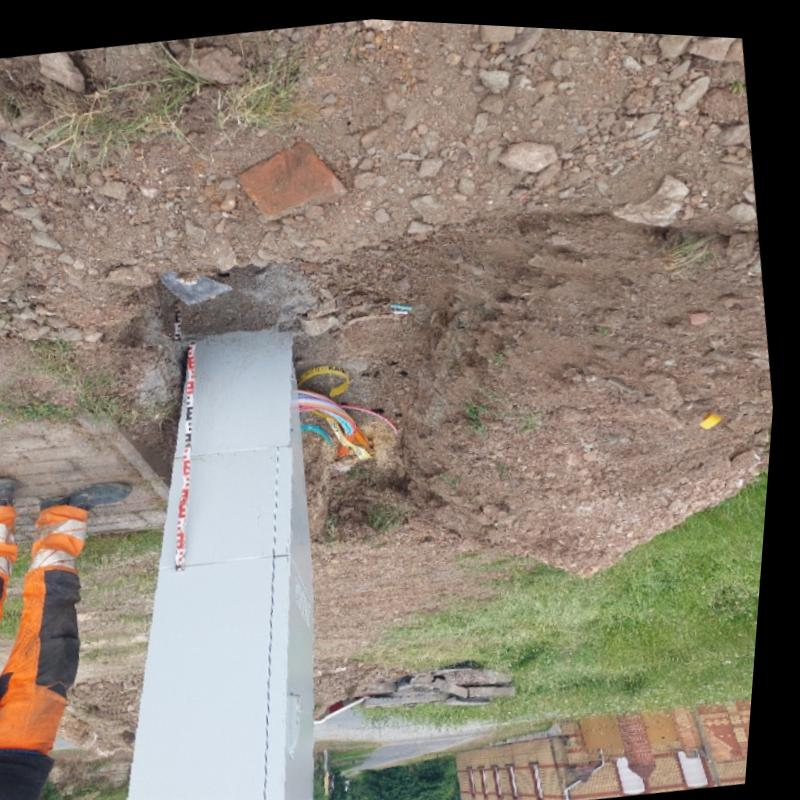NT-Gehause: (140, 327, 324, 800)
